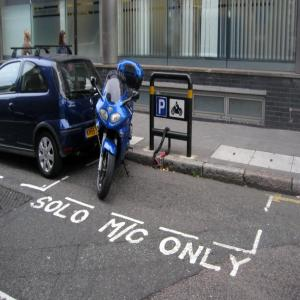Vehicle-registration-plate: (86, 127, 98, 139)
